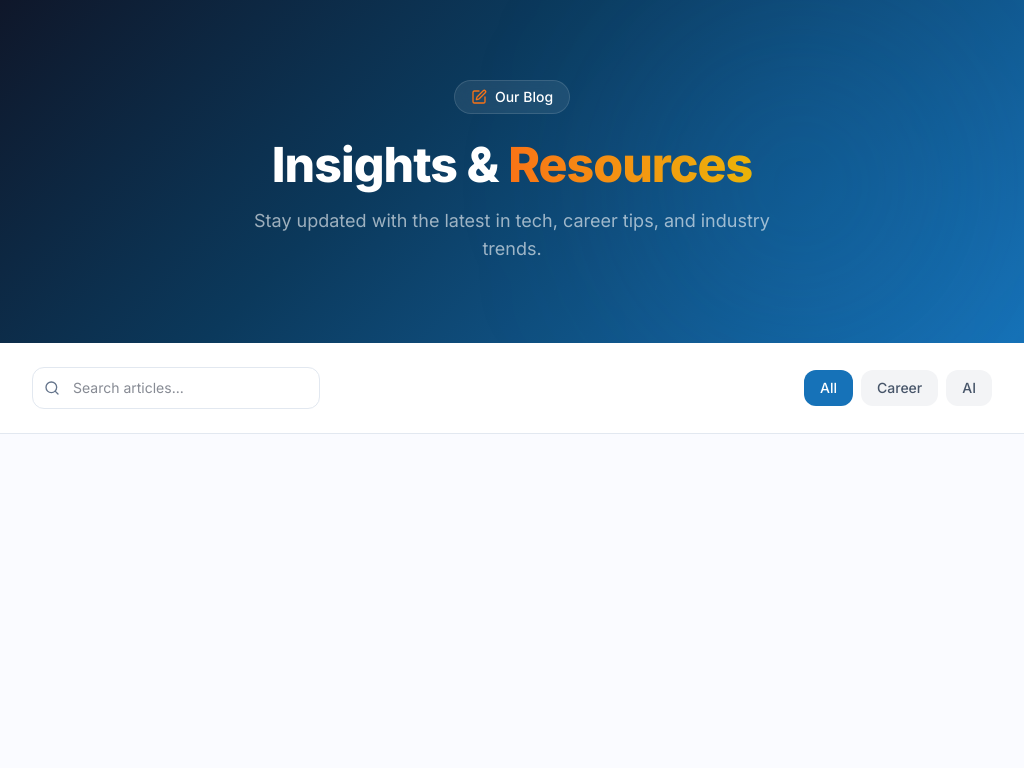
Test: BlogContent › filters by search term and shows a distinct 'no results' message
Type "generative" into the field with placeholder "Search articles...".
click(176, 388); type("generative")  # box [32, 367, 320, 409]
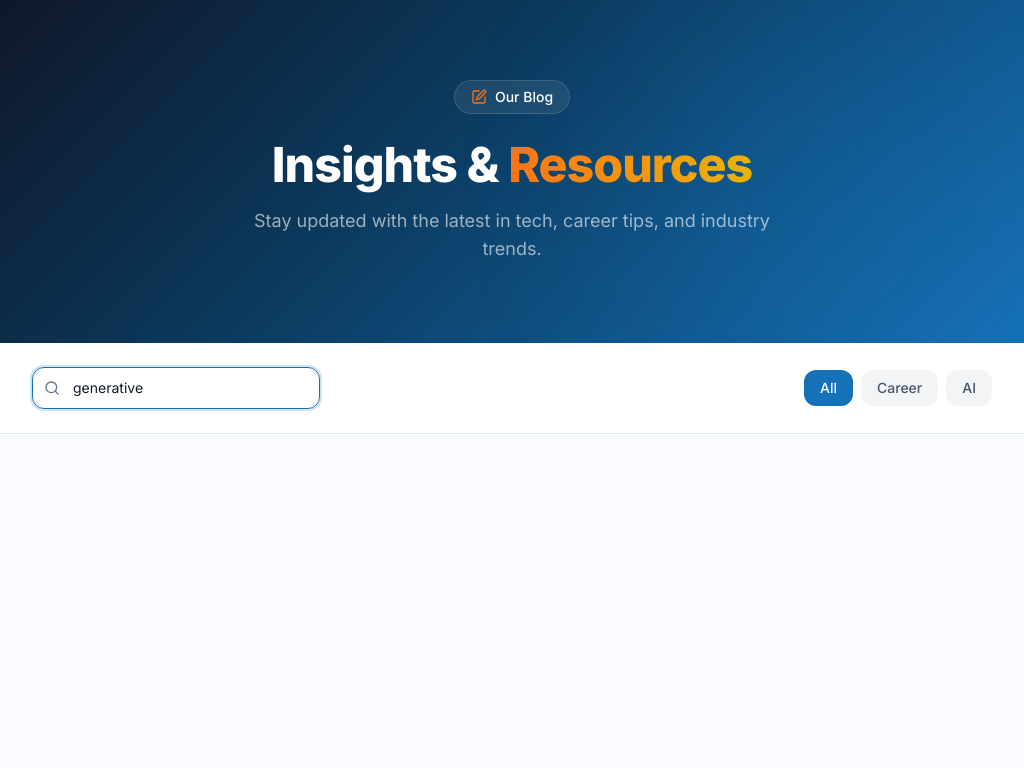
Replace the text in the field with placeholder "Search articles..." with "nonexistent topic" at (176, 388), box [32, 367, 320, 409]
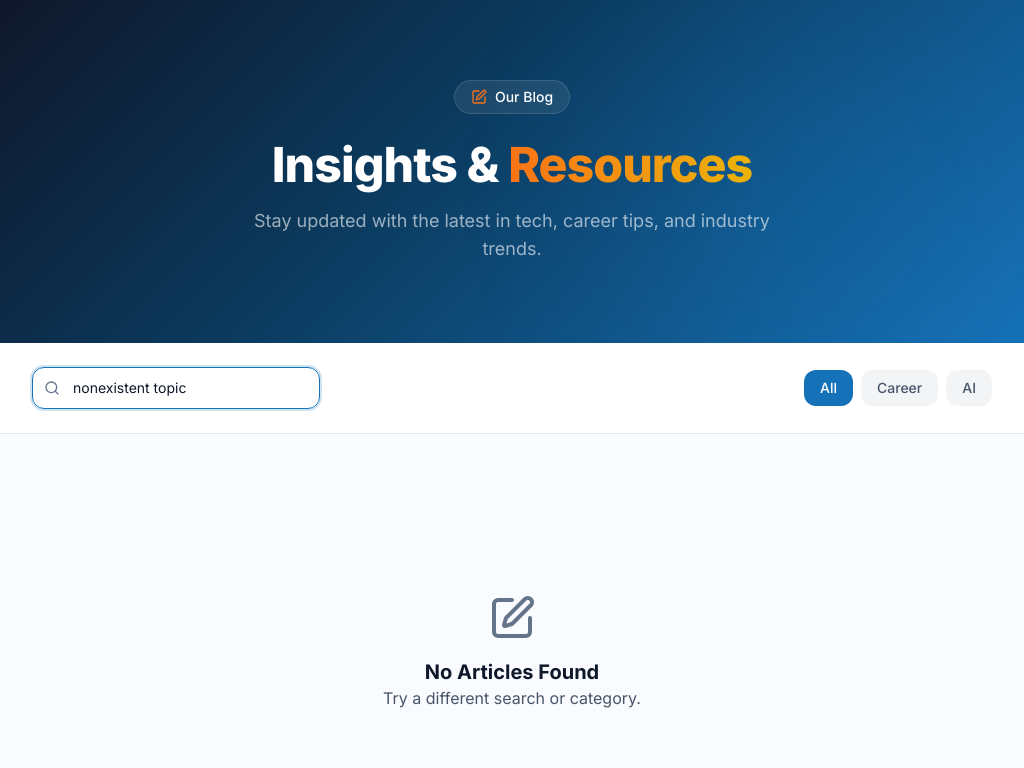
Result: the heading "No Articles Found" is shown at [425, 660, 599, 684]
